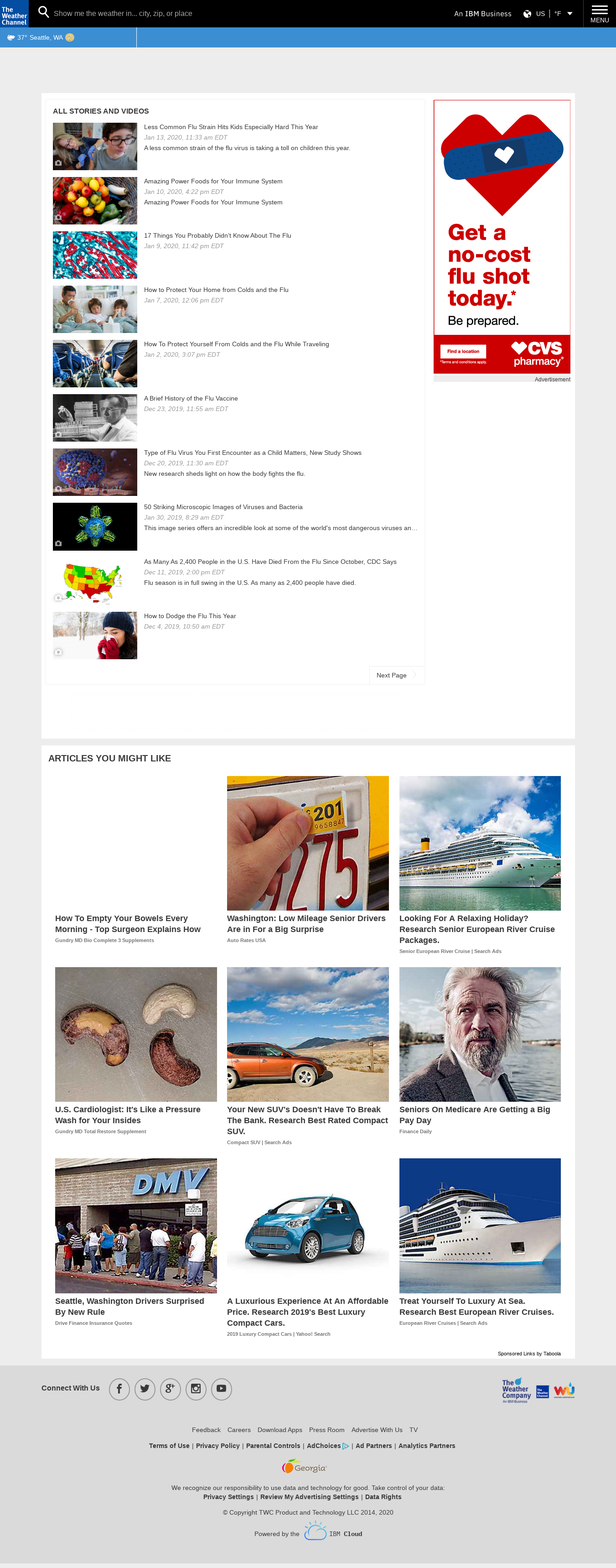fake_button: (439, 341, 488, 360)
